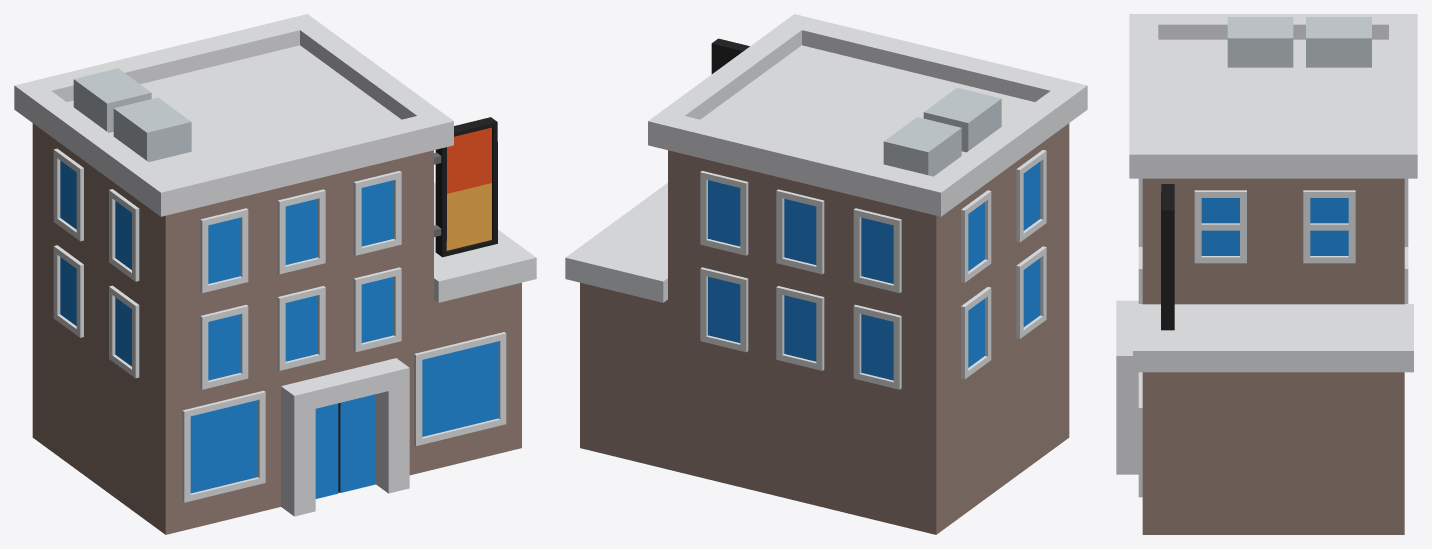
The model's file is department_store.glb.
3 renders of one model, left to right at view 1: azimuth 30°, elevation 25°; view 2: azimuth 150°, elevation 25°; view 3: azimuth 270°, elevation 25°, orthographic.
Visible parts, largest first — view 1: Cube.495; view 2: Cube.495; view 3: Cube.495.
Part boxes in pixels (x1,y1,x2,y2): Cube.495: [14, 14, 536, 534]; Cube.495: [565, 14, 1087, 534]; Cube.495: [1116, 14, 1417, 534].
Size of the model in its own units: 2.14 by 1.98 by 1.5.
1 material, 1 textured.
